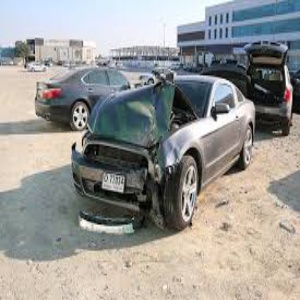bonnet: (96, 88, 182, 143)
bumper: (75, 185, 165, 237)
